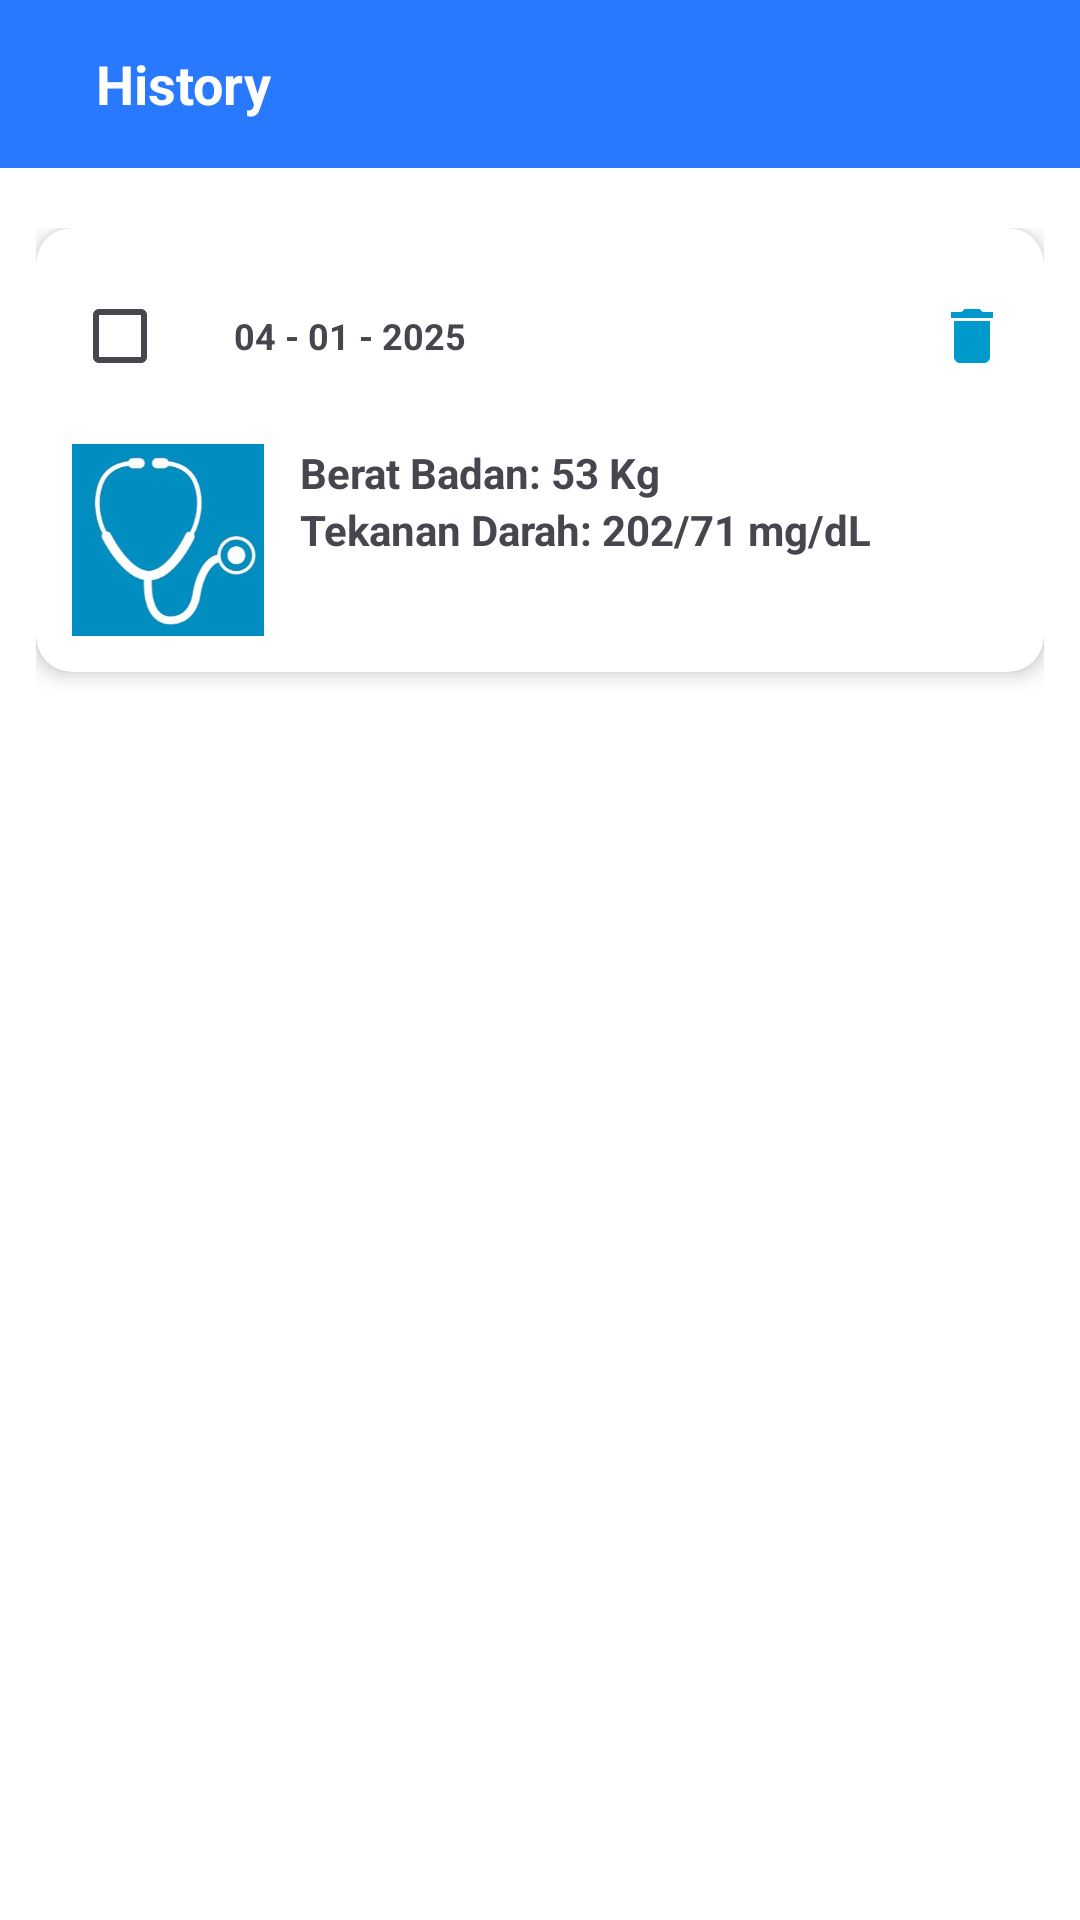

Point at icon controls on the screen. Image size 1080 x 1920, points as (x=x, y=y).
Hapus: (x=972, y=336)
stetoskop: (x=168, y=540)
